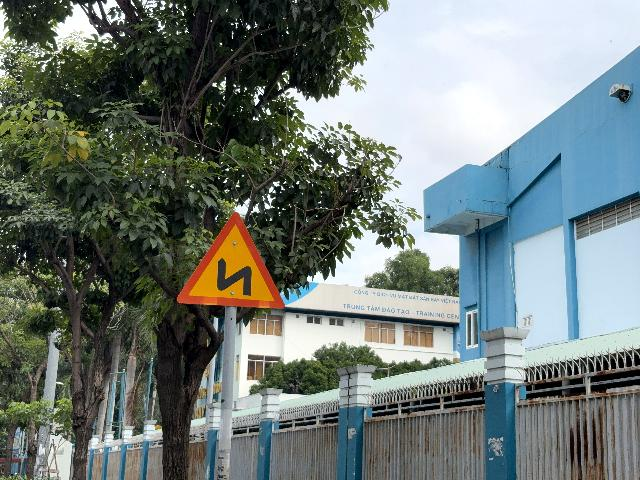nhieu-cho-ngoat-nguy-hiem-lien-tiep: (177, 211, 285, 309)
